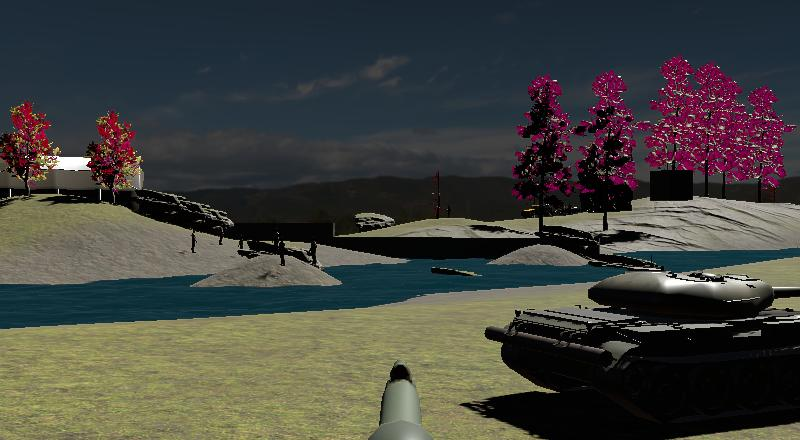Tank: (484, 259, 800, 432)
